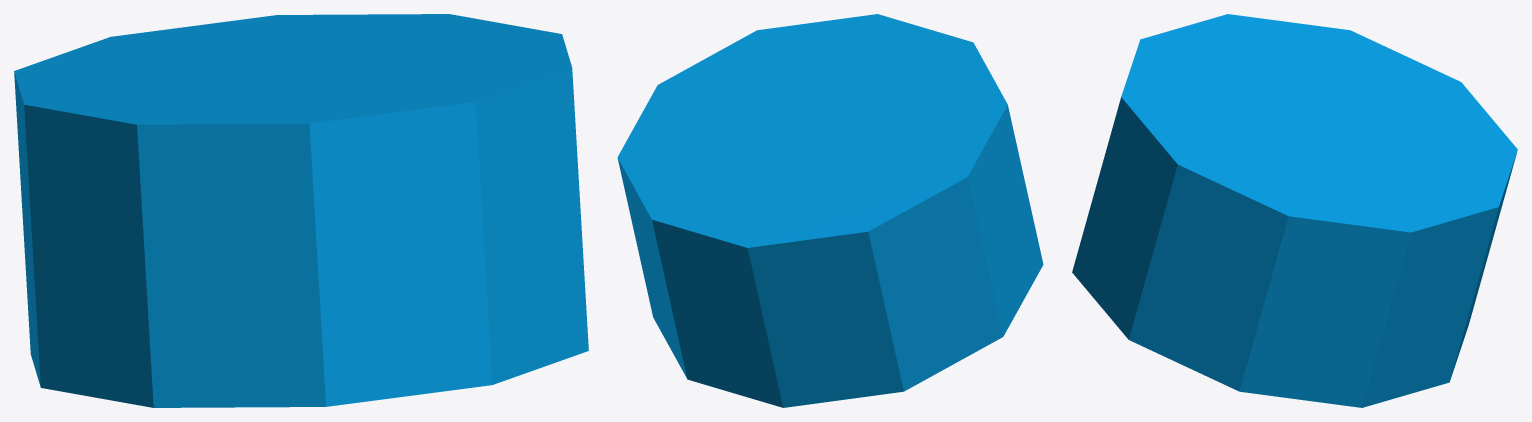
The model's file is group620967089_lev3.glb.
3 renders of one model, left to right at view 1: azimuth 30°, elevation 25°; view 2: azimuth 150°, elevation 25°; view 3: azimuth 270°, elevation 25°, orthographic. The views are drawn at different scales.
Visible parts, largest first — view 1: group620967089_lev3; view 2: group620967089_lev3; view 3: group620967089_lev3.
Part boxes in pixels (bbox=[...]): group620967089_lev3: bbox=[14, 14, 588, 407]; group620967089_lev3: bbox=[617, 14, 1043, 407]; group620967089_lev3: bbox=[1072, 14, 1517, 407].
Size of the model in its own units: 0.5623 by 0.4003 by 0.5922.
